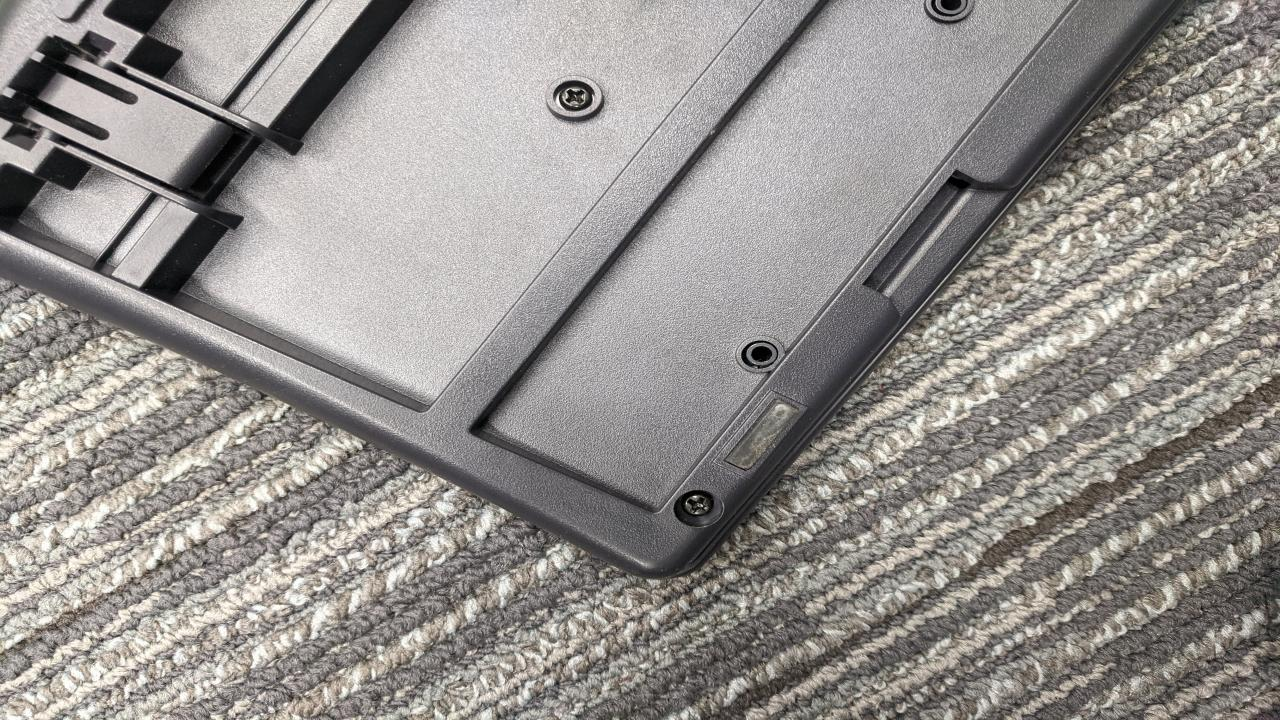CRS: (679, 489, 716, 522), (560, 83, 592, 110)
